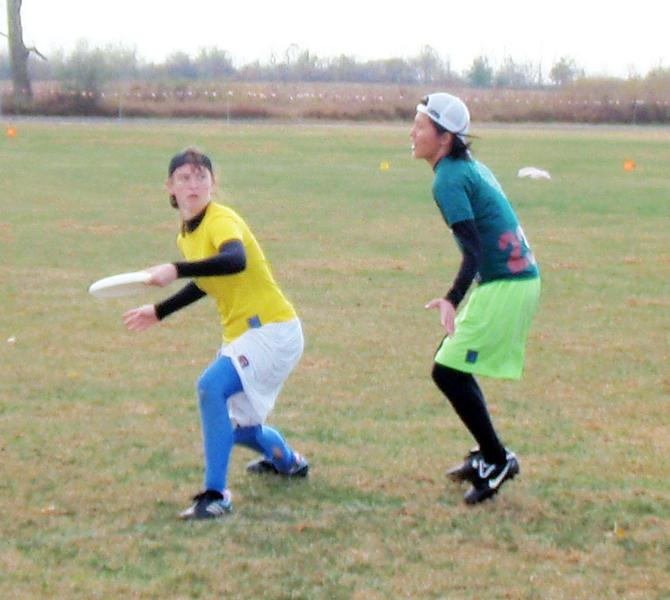person: (121, 148, 311, 521)
